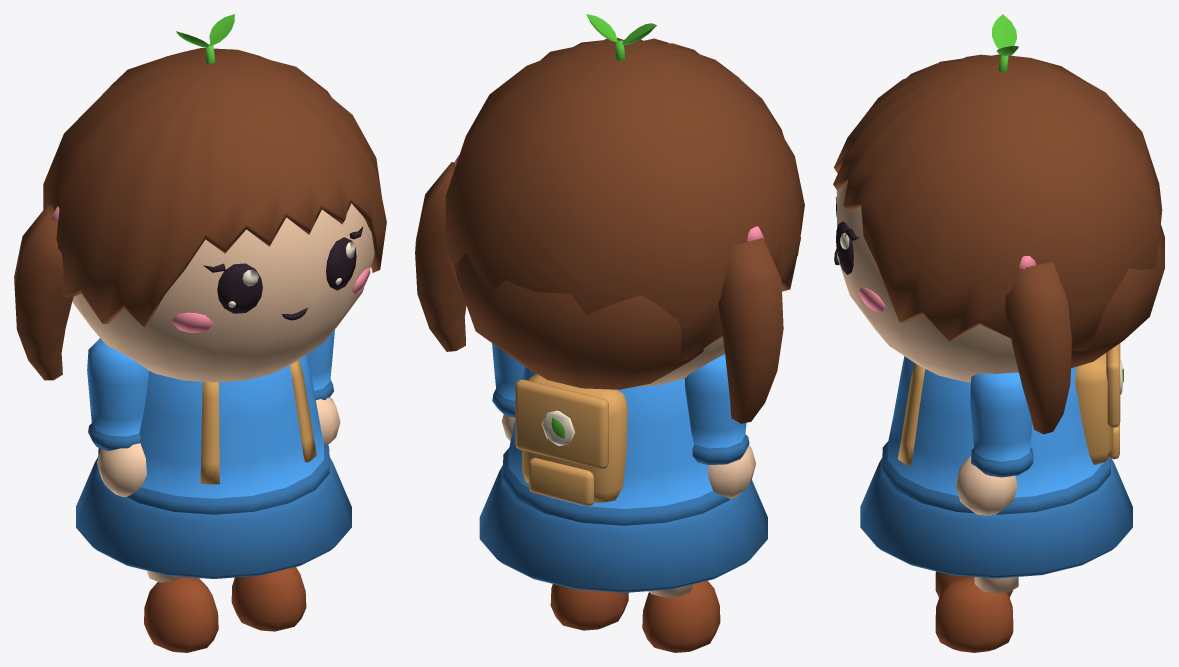
The model's file is hero-woman.glb.
The picture shows the model from 3 angles, left to right: view 1: azimuth 30°, elevation 25°; view 2: azimuth 150°, elevation 25°; view 3: azimuth 270°, elevation 25°; orthographic projection. The views are drawn at different scales.
Visible parts, largest first — view 1: head, body, arm-left, leg-left, leg-right, arm-right, head-leaf; view 2: head, body, arm-left, leg-left, leg-right, arm-right, head-leaf; view 3: head, body, arm-right, leg-right, head-leaf.
Boxes of the visible parts, box(x1,y1,x2,y2) form: head: box(14, 48, 386, 382); body: box(76, 354, 351, 578); arm-left: box(87, 338, 148, 496); leg-left: box(144, 570, 218, 652); leg-right: box(231, 567, 306, 631); arm-right: box(307, 330, 340, 444); head-leaf: box(176, 14, 234, 63); head: box(415, 37, 804, 423); body: box(479, 366, 767, 592); arm-left: box(684, 354, 755, 498); leg-left: box(642, 581, 720, 652); leg-right: box(550, 584, 628, 630); arm-right: box(492, 343, 524, 440); head-leaf: box(586, 14, 656, 60); head: box(833, 54, 1164, 434); body: box(860, 343, 1132, 578); arm-right: box(956, 372, 1033, 515); leg-right: box(935, 576, 1018, 652); head-leaf: box(992, 14, 1018, 72).
Bounding box in the file's own units: 1.44 × 2.35 × 1.19.
